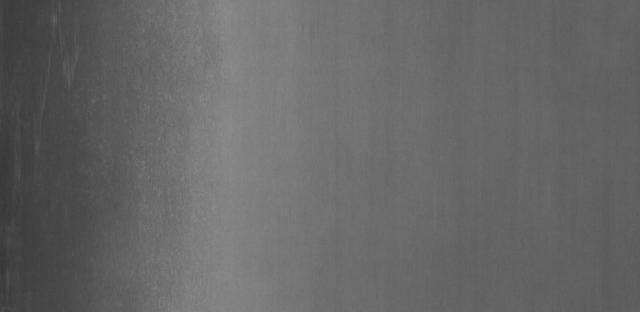silk_spot: (42, 19, 93, 95)
